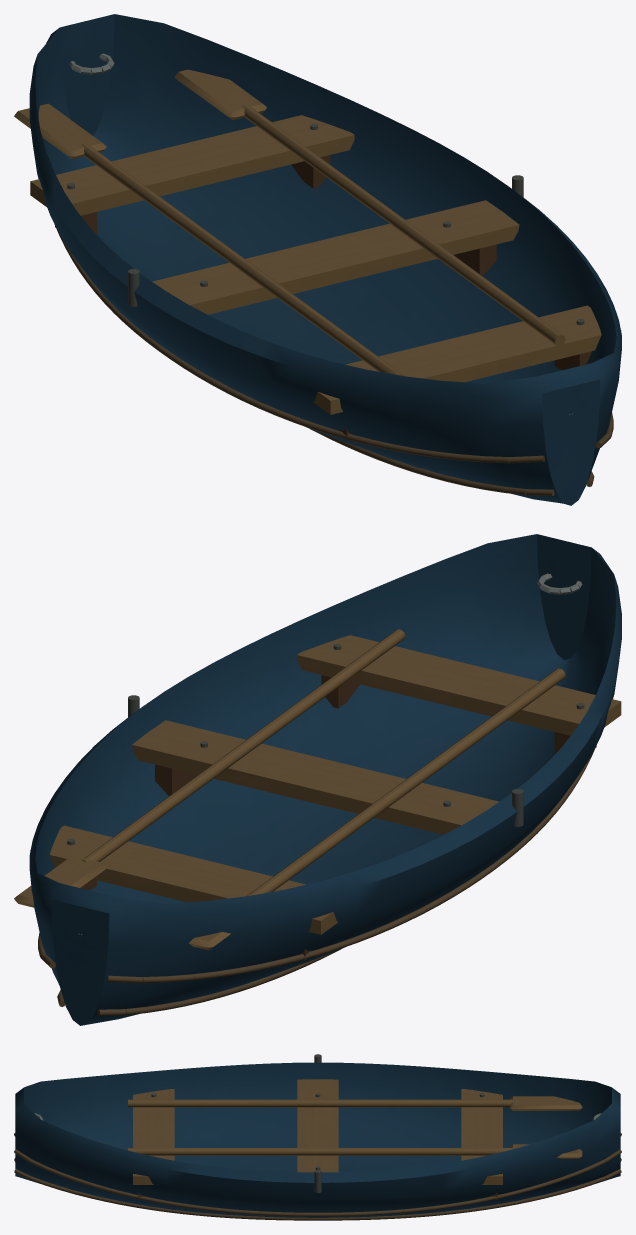
The model's file is level_camp_rowboat_authored.glb.
3 renders of one model, top to bottom at view 1: azimuth 30°, elevation 25°; view 2: azimuth 150°, elevation 25°; view 3: azimuth 270°, elevation 25°, orthographic. The views are drawn at different scales.
Parts seen in each view (by area): view 1: level_camp_rowboat_authored; view 2: level_camp_rowboat_authored; view 3: level_camp_rowboat_authored.
Part boxes in pixels (x1=…): level_camp_rowboat_authored: x1=14, y1=14, x2=621, y2=505; level_camp_rowboat_authored: x1=14, y1=534, x2=621, y2=1025; level_camp_rowboat_authored: x1=14, y1=1054, x2=621, y2=1220.
Bounding box in the file's own units: 1.62 × 0.655 × 3.52.
Materials: 1 (1 with a texture image).
